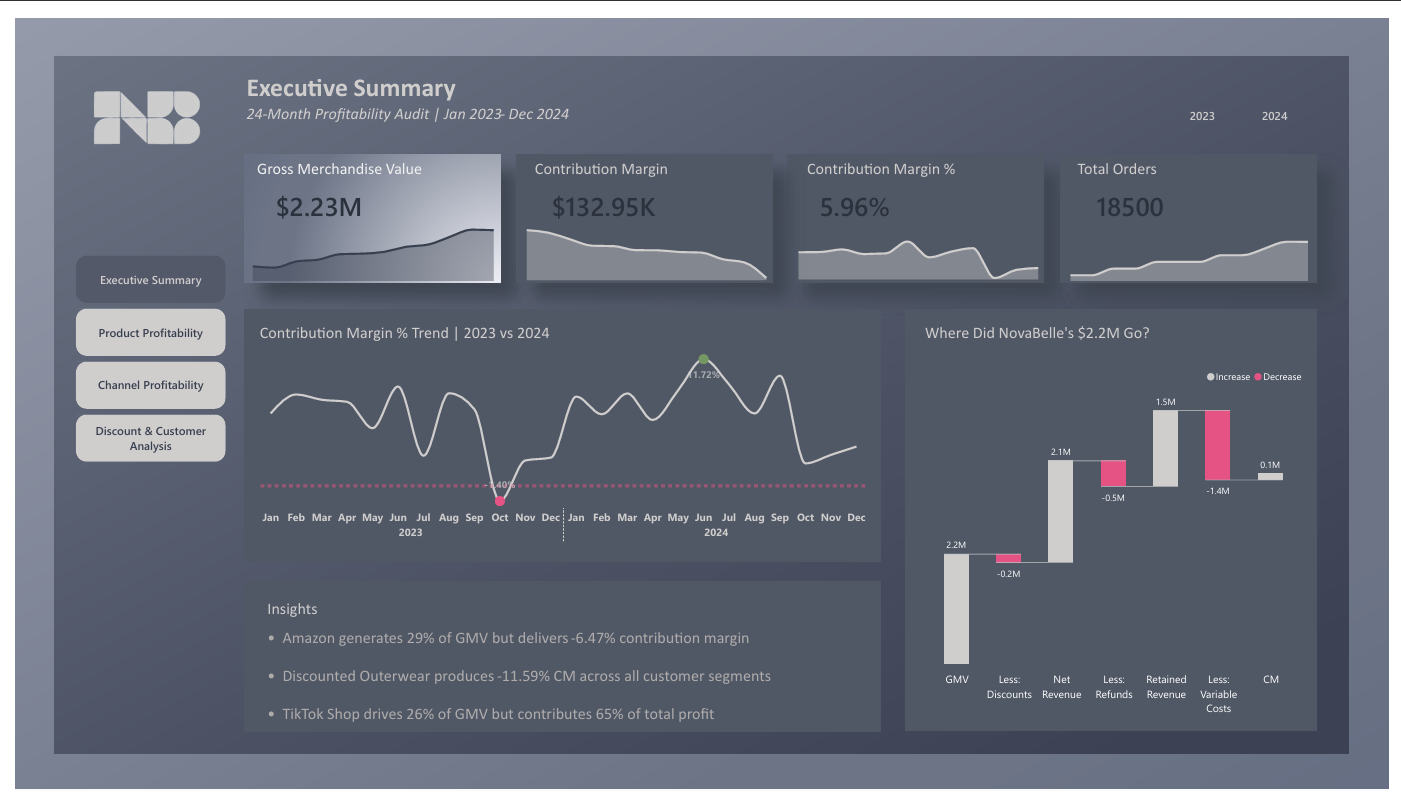

This screenshot's page, from the dashboard's own definition file:
{"tool":"powerbi","page":{"name":"Executive Summary","canvas":[1920,1080],"ordinal":0},"visuals":[{"type":"cardVisual","fields":{"Data":["all_measures.total_orders"]},"box":[1483.4,222,151.3,78.1],"z":0},{"type":"waterfallChart","fields":{"Category":["waterfall_labels..stage"],"Y":["all_measures.waterfall_value"]},"box":[1249.2,472.4,570.1,520.1],"z":1000},{"type":"lineChart","fields":{"Category":["dim_date.year","dim_date.month_name"],"Y":["all_measures.cm %","all_measures.max_cm%_label","all_measures.min_cm%_label"]},"box":[327.1,447.4,879,306.6],"z":2000},{"type":"cardVisual","fields":{"Data":["all_measures.contribution_margin"]},"box":[719.7,222,204.9,78.1],"z":3000},{"type":"cardVisual","fields":{"Data":["all_measures.cm %"]},"box":[1097.9,222,151.3,78.1],"z":4000},{"type":"cardVisual","fields":{"Data":["all_measures.gmv"]},"box":[326.9,222,195.2,78.1],"z":5000},{"type":"areaChart","fields":{"Y":["all_measures.Contribution Margin"],"Category":["dim_date.month_name"]},"box":[703.3,266.7,358.3,100],"z":6000},{"type":"areaChart","fields":{"Y":["all_measures.gmv"],"Category":["dim_date.month_name"]},"box":[319.6,270.8,361.1,95.2],"z":7000},{"type":"areaChart","fields":{"Category":["dim_date.month_name"],"Y":["all_measures.cm %"]},"box":[1083.4,265.7,358.9,99.9],"z":8000},{"type":"areaChart","fields":{"Category":["dim_date.month_name"],"Y":["all_measures.total_orders"]},"box":[1462.7,265.7,356.6,99.9],"z":9000},{"type":"pageNavigator","box":[85.4,331.8,209.8,290.3],"z":10000},{"type":"advancedSlicerVisual","fields":{"Values":["dim_date.year"]},"box":[1612.6,115.8,195.3,43.2],"z":11000}]}

Visuals, with their boxes in screenshot pixels (x1, y1, x2, y2), scaled from the page's 1920x1080 canvas onto the 1401x807 screenshot:
cardVisual - all_measures.total_orders: (left=1082, top=166, right=1193, bottom=224)
waterfallChart - waterfall_labels..stage x all_measures.waterfall_value: (left=912, top=353, right=1328, bottom=742)
lineChart - dim_date.year x dim_date.month_name: (left=239, top=334, right=880, bottom=563)
cardVisual - all_measures.contribution_margin: (left=525, top=166, right=675, bottom=224)
cardVisual - all_measures.cm %: (left=801, top=166, right=912, bottom=224)
cardVisual - all_measures.gmv: (left=239, top=166, right=381, bottom=224)
areaChart - all_measures.Contribution Margin x dim_date.month_name: (left=513, top=199, right=775, bottom=274)
areaChart - all_measures.gmv x dim_date.month_name: (left=233, top=202, right=497, bottom=273)
areaChart - dim_date.month_name x all_measures.cm %: (left=791, top=199, right=1052, bottom=273)
areaChart - dim_date.month_name x all_measures.total_orders: (left=1067, top=199, right=1328, bottom=273)
pageNavigator: (left=62, top=248, right=215, bottom=465)
advancedSlicerVisual - dim_date.year: (left=1177, top=87, right=1319, bottom=119)
